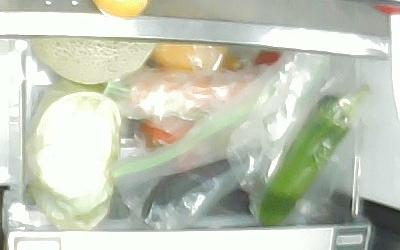cabbage: (28, 90, 121, 229)
carrot_vinyl: (140, 115, 194, 148)
eggplant_vinyl: (140, 148, 273, 227)
melon: (29, 37, 156, 85)
pear_vinyl: (150, 42, 226, 71)
zucchini_vinyl: (257, 81, 371, 226)
